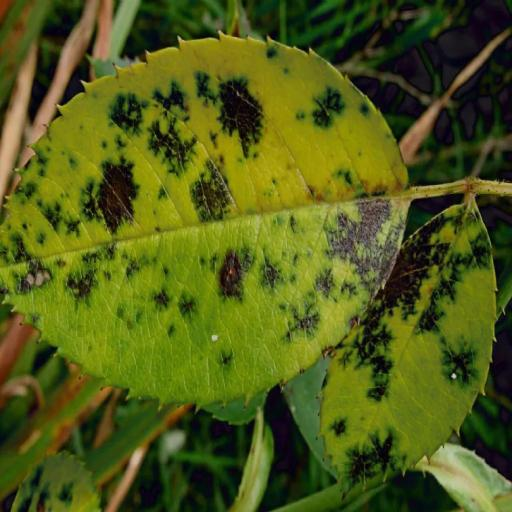downy_mildew: (0, 36, 408, 405), (321, 201, 495, 492), (416, 444, 511, 511), (13, 453, 100, 511), (230, 409, 273, 511)
